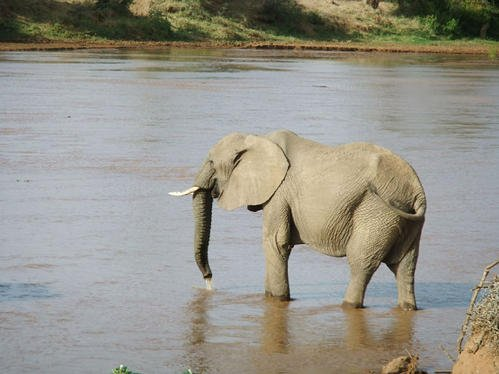elephant: (168, 128, 428, 311)
